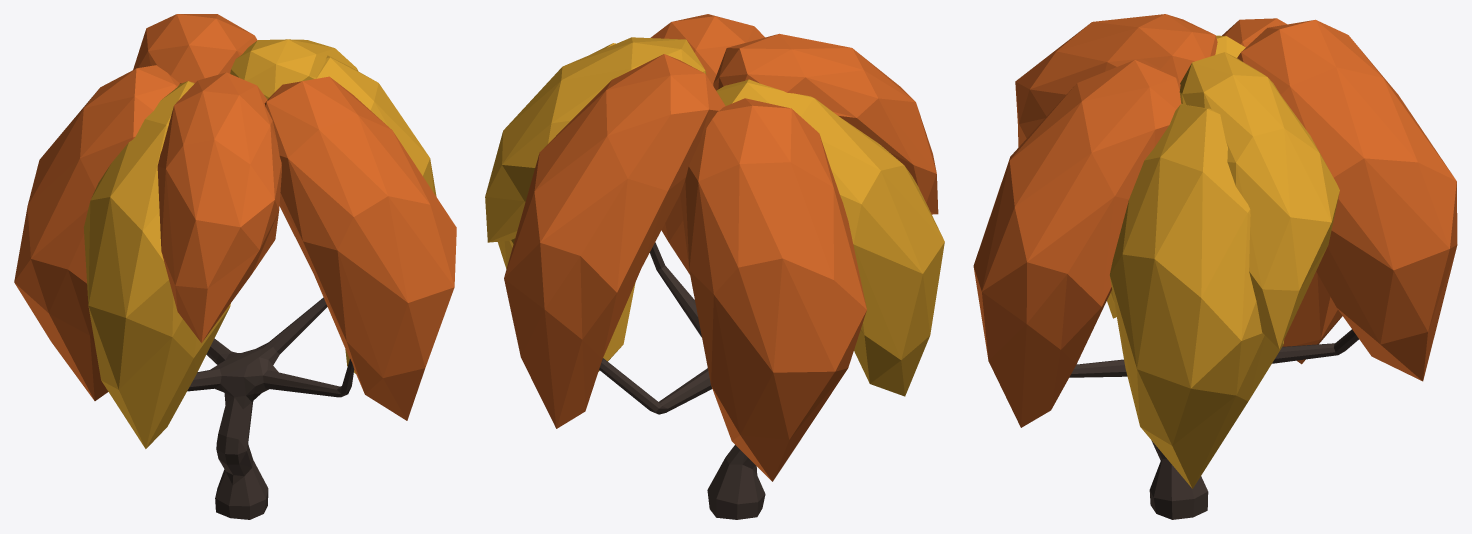
Rendered from Willow_Tree_Autumn.fbx.
3 views of the same model, side by side, from view 1: azimuth 30°, elevation 25°; view 2: azimuth 150°, elevation 25°; view 3: azimuth 270°, elevation 25° (orthographic). The views are drawn at different scales.
Visible parts, largest first — view 1: Willow_Tree_Autumn; view 2: Willow_Tree_Autumn; view 3: Willow_Tree_Autumn.
Boxes of the visible parts, <box> form: Willow_Tree_Autumn: <box>14,14,456,519</box>; Willow_Tree_Autumn: <box>485,14,944,519</box>; Willow_Tree_Autumn: <box>973,14,1457,519</box>.
Size of the model in its own units: 744 by 858 by 769.
